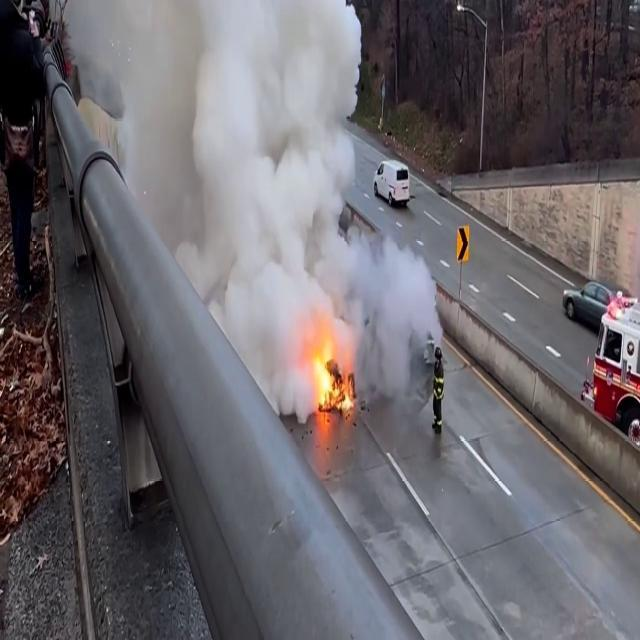Fire: (303, 318, 353, 422)
Smoke: (174, 0, 366, 331), (346, 209, 442, 416)
